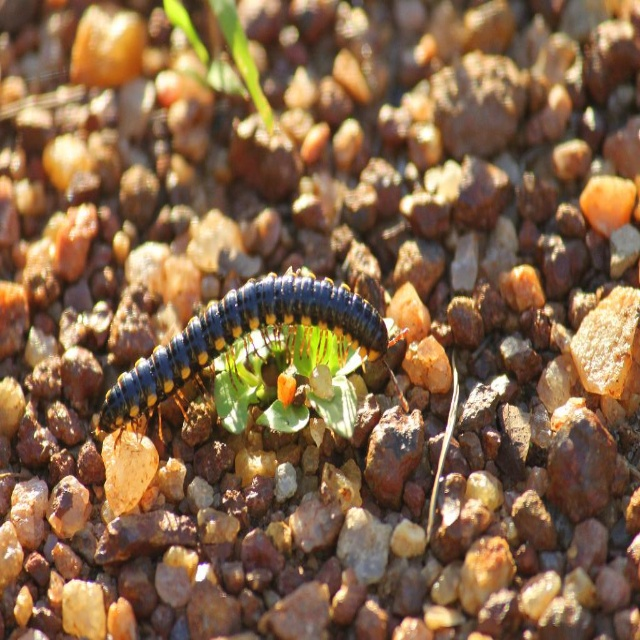Centipede: (94, 264, 410, 448)
